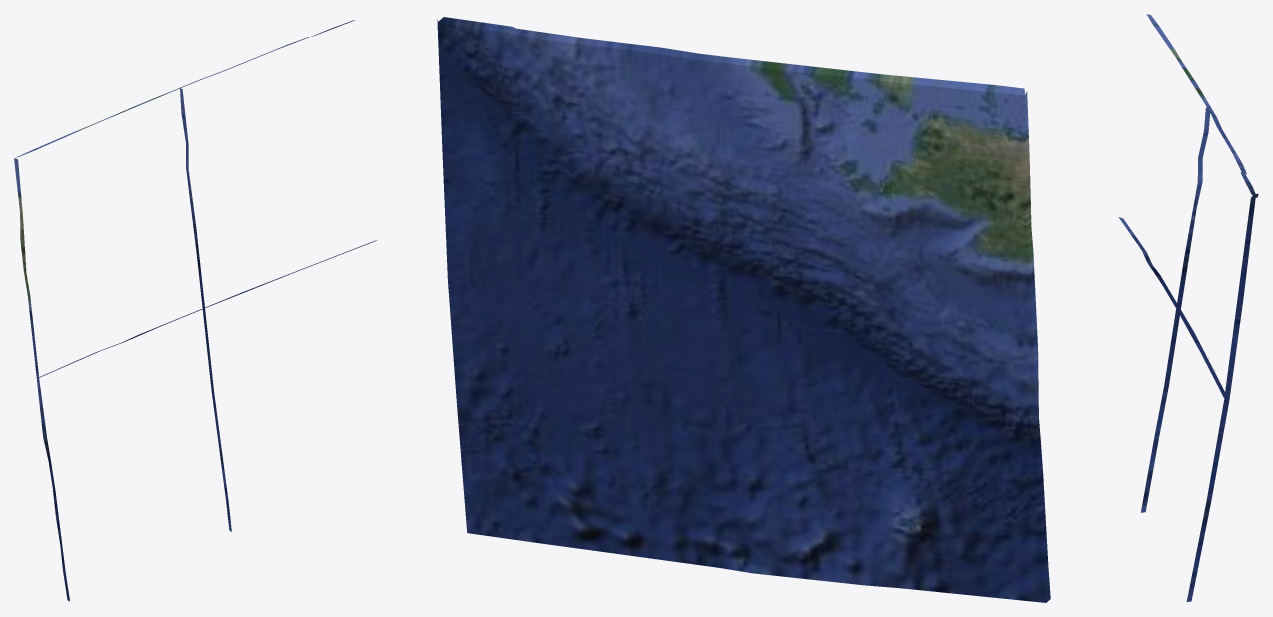
3 views of the same model, side by side, from view 1: azimuth 30°, elevation 25°; view 2: azimuth 150°, elevation 25°; view 3: azimuth 270°, elevation 25° (orthographic). The views are drawn at different scales.
Size of the model in its own units: 629835 by 627358 by 252027.
1 material, 1 textured.
